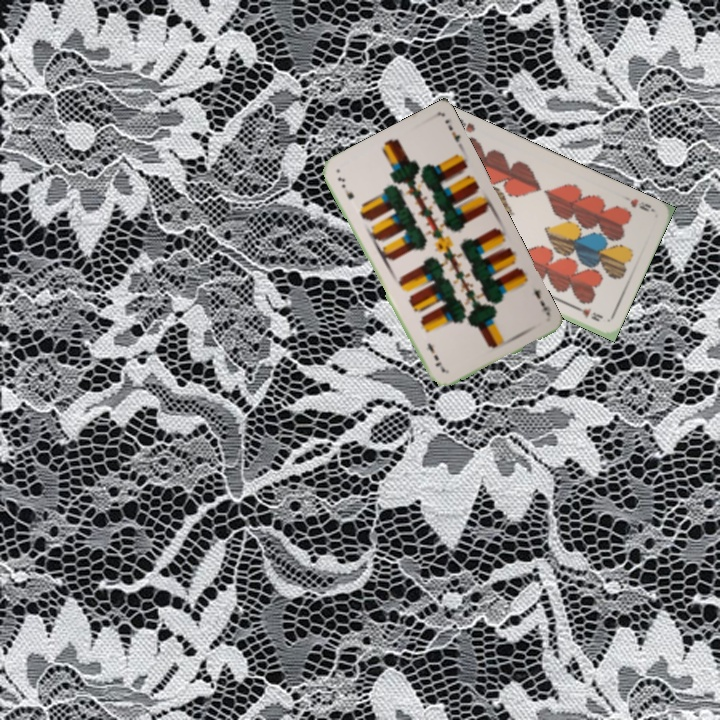E7: (530, 285, 553, 318), (333, 173, 356, 202)
H9: (626, 194, 657, 215)
